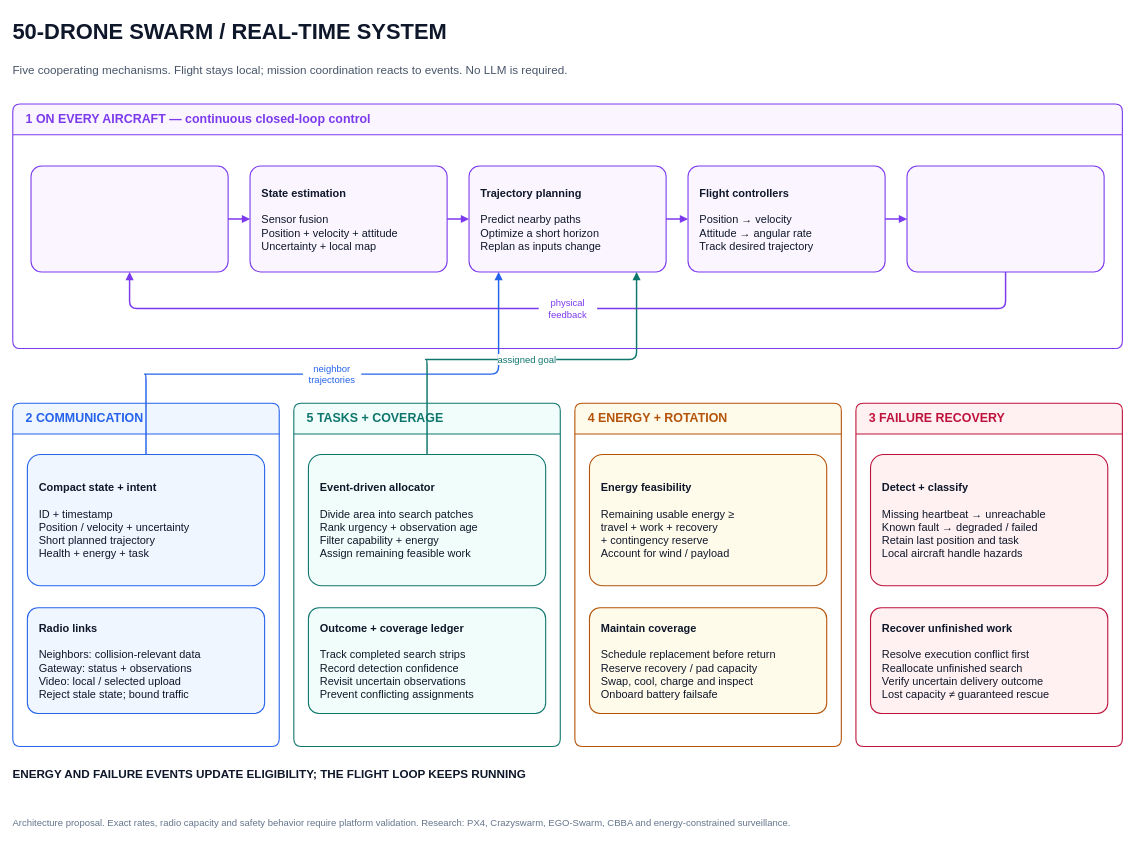
Image size: 1136x852. Some labels were removed from this diagram. The centre of each missing label's shape, as x and y in pixels:
"Actuators + motion Allocate motor outputs Aircraft moves Sensors measure again" goes at [1005,218].
"Sensors IMU + GNSS Camera / depth Voltage + current" goes at [129,218].
